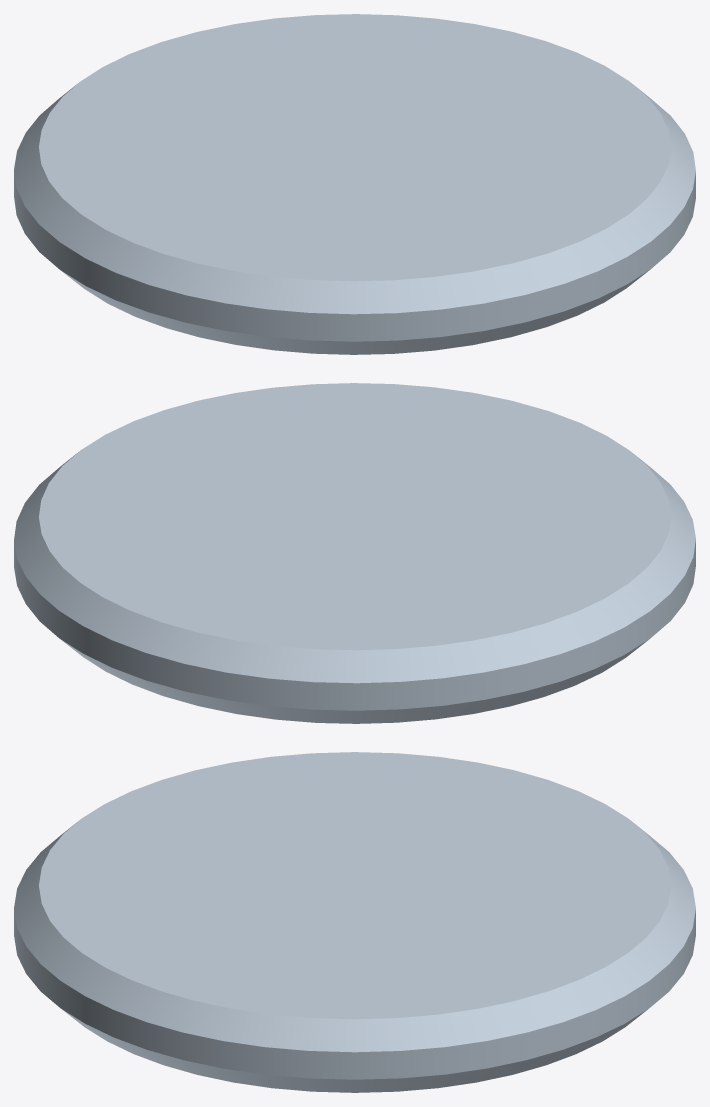
The model's file is indoor_lamp_off.gltf.
The picture shows the model from 3 angles, top to bottom: view 1: azimuth 30°, elevation 25°; view 2: azimuth 150°, elevation 25°; view 3: azimuth 270°, elevation 25°; orthographic projection.
Parts seen in each view (by area): view 1: Hall.Lamp.001; view 2: Hall.Lamp.001; view 3: Hall.Lamp.001.
Part boxes in pixels (<box>): Hall.Lamp.001: <box>14,14,695,354</box>; Hall.Lamp.001: <box>14,383,695,723</box>; Hall.Lamp.001: <box>14,752,695,1092</box>.
Size of the model in its own units: 1.24 by 0.1502 by 1.24.
